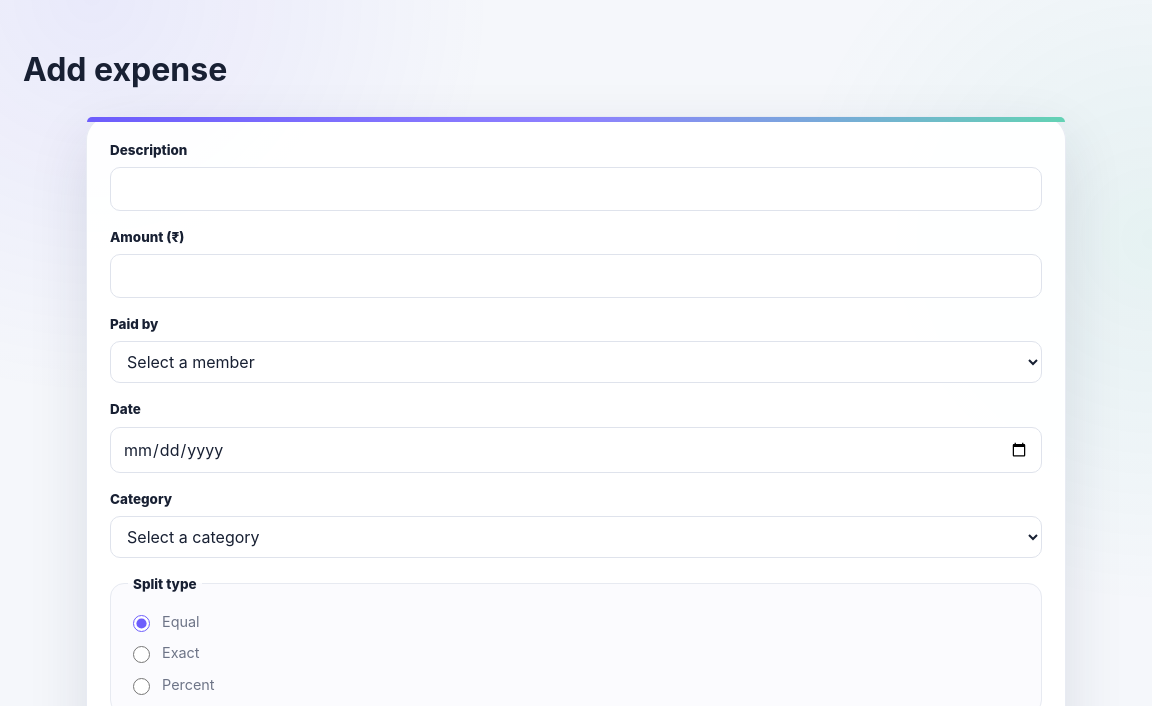
AddExpensePage › saves a valid equal expense and shows the success message
The width and height of the screenshot is (1152, 706).
Type "Team lunch" into the field labelled "Description" at [576, 189], box [110,167,1042,211]
Type "100" into the field labelled "Amount (₹)" at [576, 276], box [110,254,1042,298]
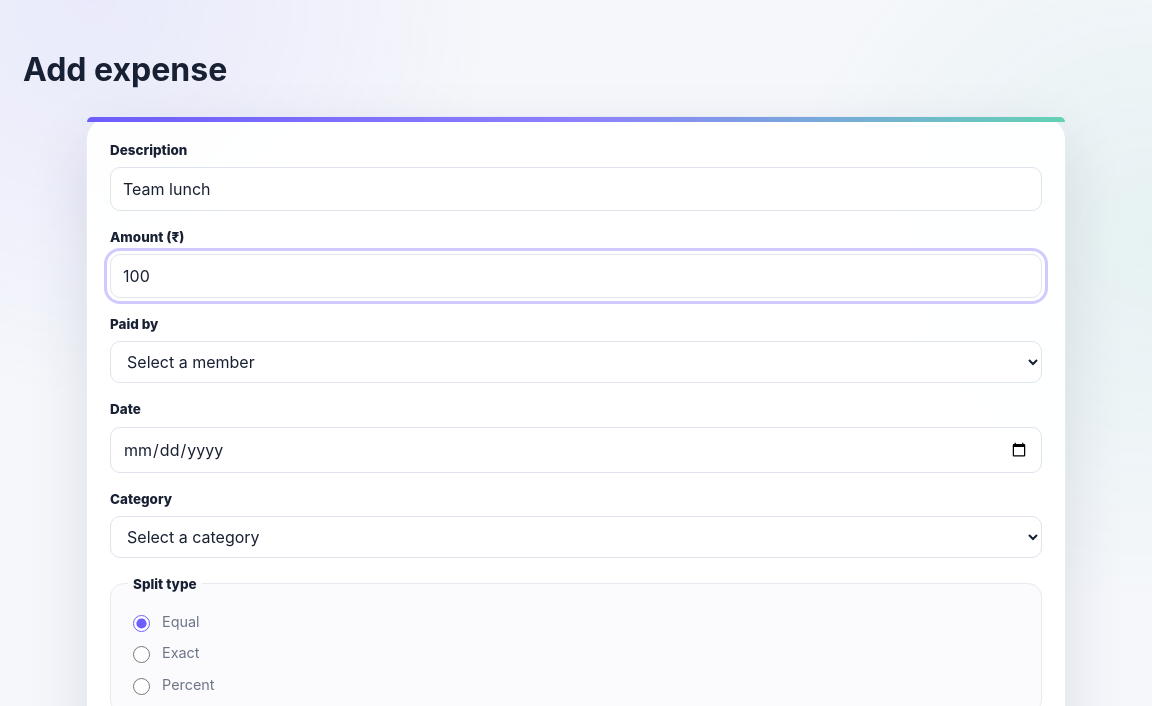
Select "Aarav" in the dropdown labelled "Paid by" at [576, 362], box [110,341,1042,383]
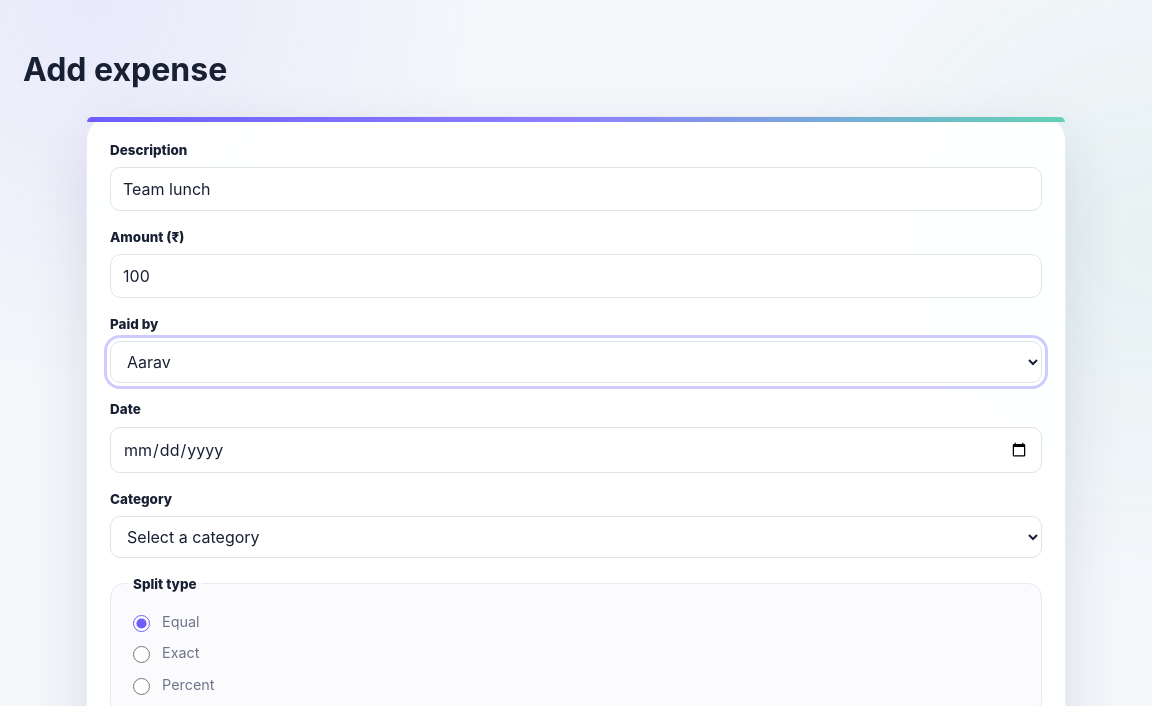
Type "2026-10-01" into the date field labelled "Date" at [576, 450], box [110,426,1042,472]
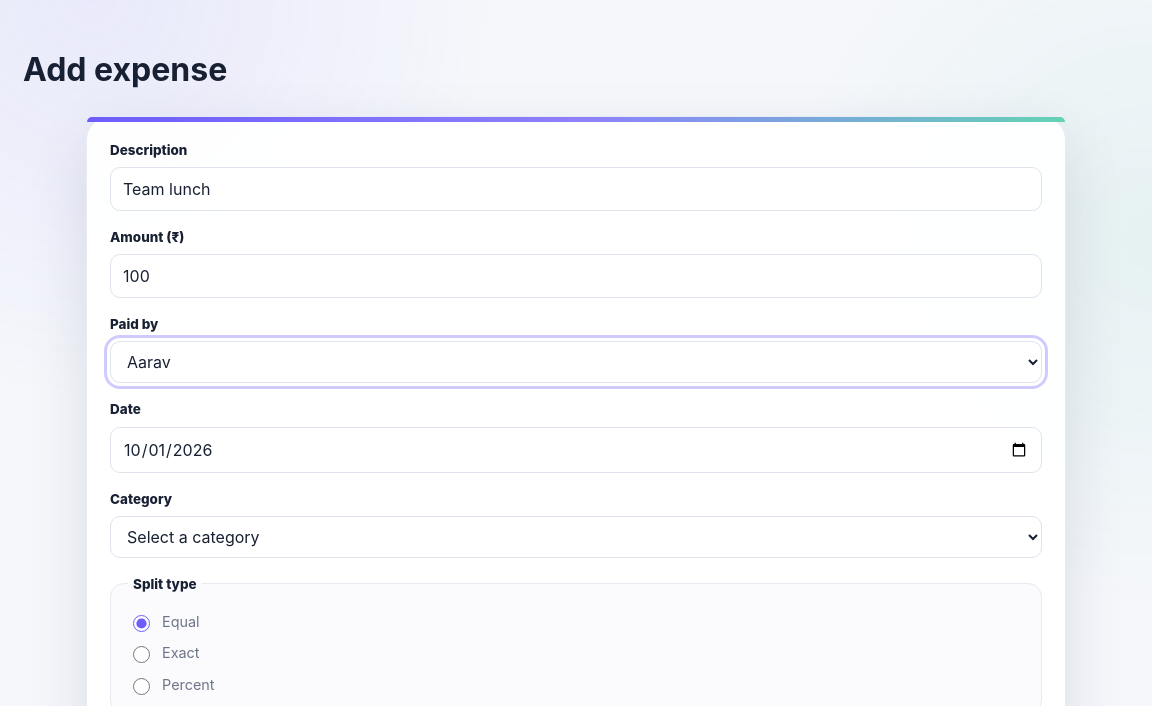
Select "Food" in the dropdown labelled "Category" at [576, 537], box [110,516,1042,558]
(page scrolled)
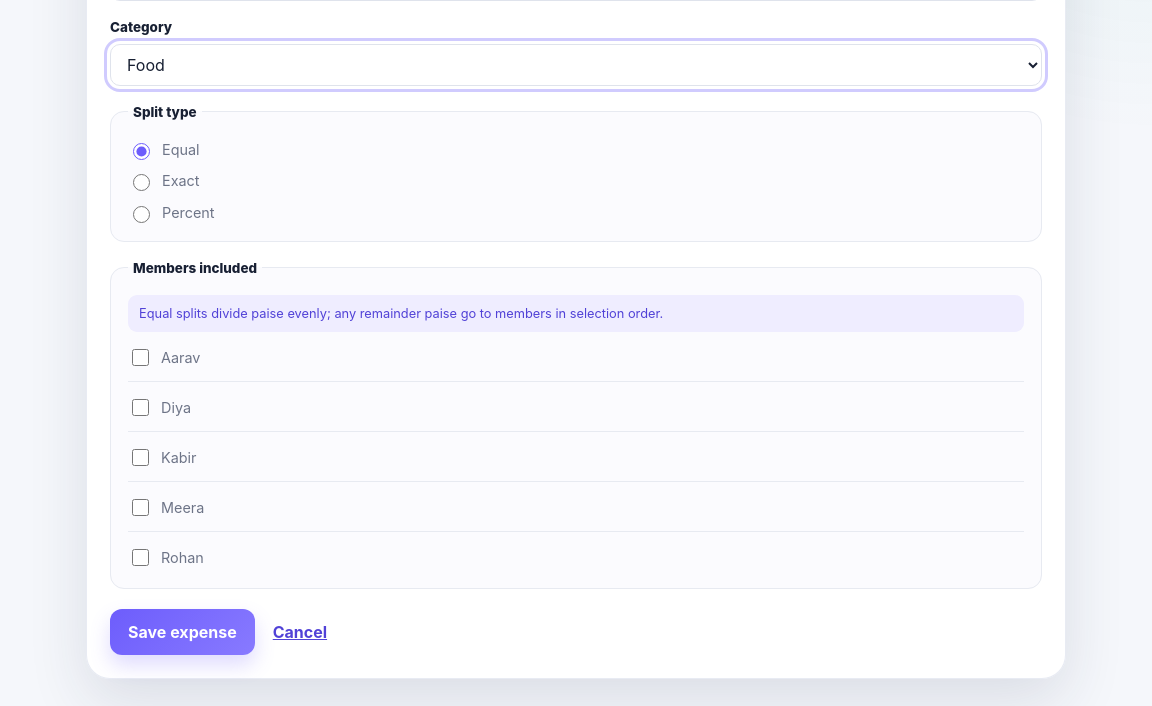
Click the checkbox labelled "Aarav" at [140, 358], box [132,349,149,366]
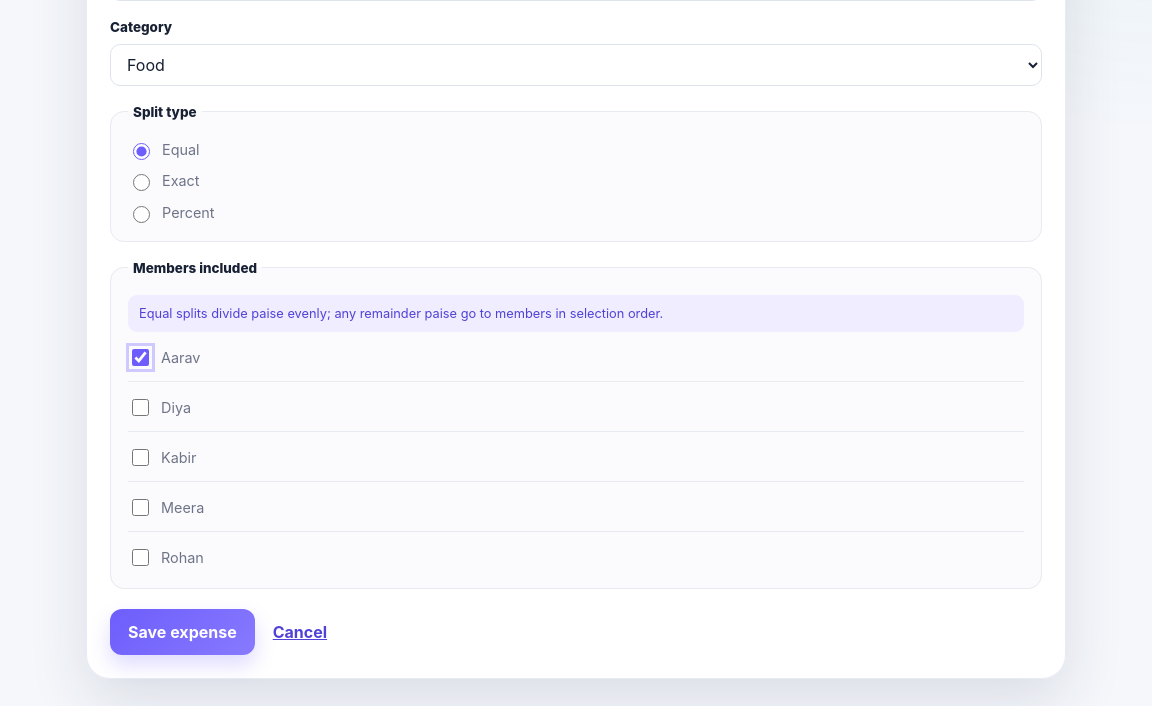
Click the button "Save expense" at [182, 632], box [110,609,255,655]
(page scrolled)
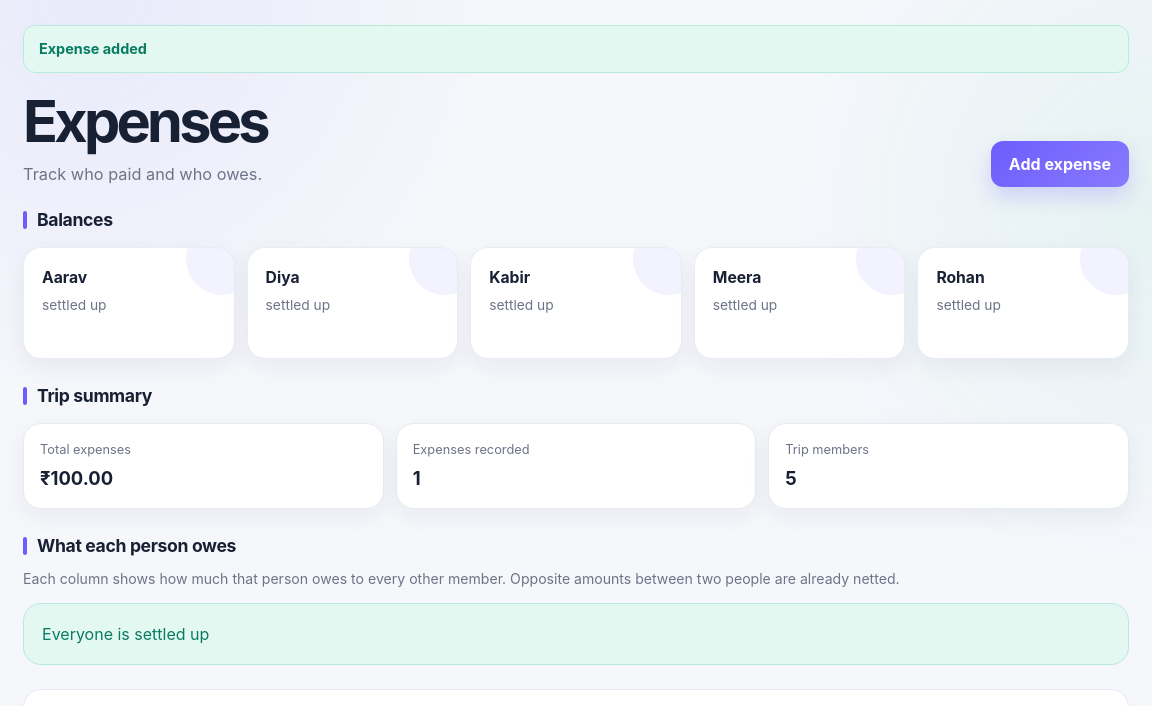
Expected: the message reads "Expense added", [39,40,147,57]
